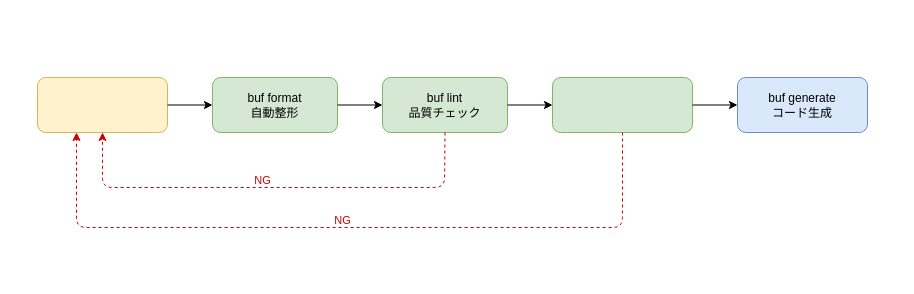
Some shapes in this 914 by 294 pixel diagram are drawn without their labels. Here are the shapes that lost their labels. From the top down, the centre of each, then its label:
At point 102,104: ".proto ファイル 作成・編集".
At point 622,104: "buf breaking 互換性チェック".
